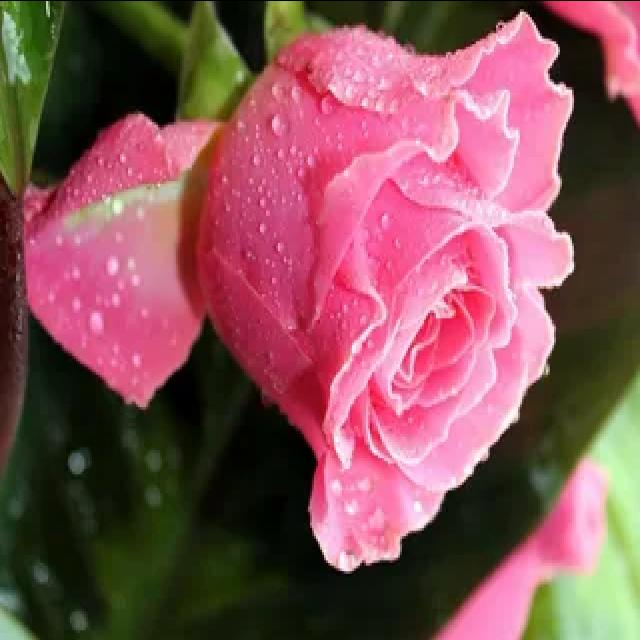rose: (190, 0, 594, 586)
